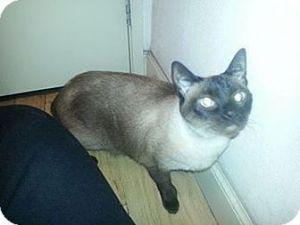siamese: (165, 40, 275, 154)
